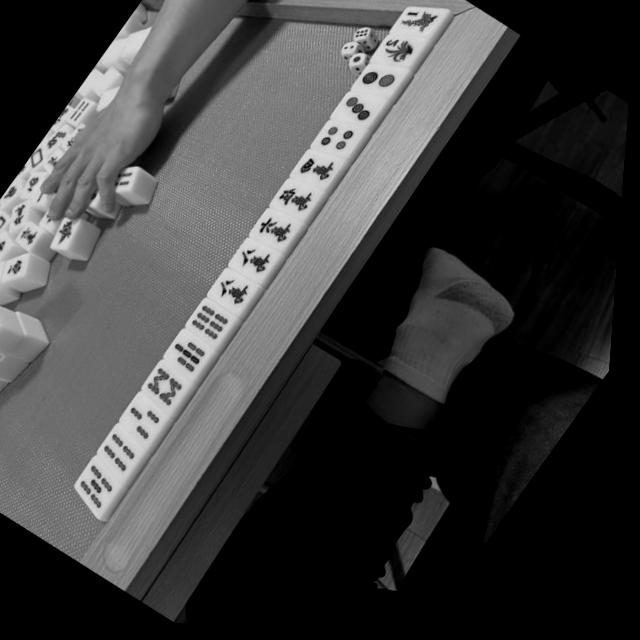bf1: (396, 3, 446, 52)
bf2: (376, 35, 424, 80)
sb3: (122, 396, 176, 448)
sb4: (102, 430, 154, 481)
sb5: (78, 463, 133, 517)
sb6: (191, 303, 242, 353)
sb7: (168, 334, 219, 383)
sb8: (146, 365, 200, 417)
sc4: (296, 152, 343, 198)
sc5: (275, 183, 324, 229)
sc6: (254, 212, 302, 258)
sc8: (212, 272, 261, 320), (235, 242, 282, 287)
sd2: (356, 64, 404, 110)
sd3: (337, 94, 383, 137)
sd4: (317, 123, 362, 167)
